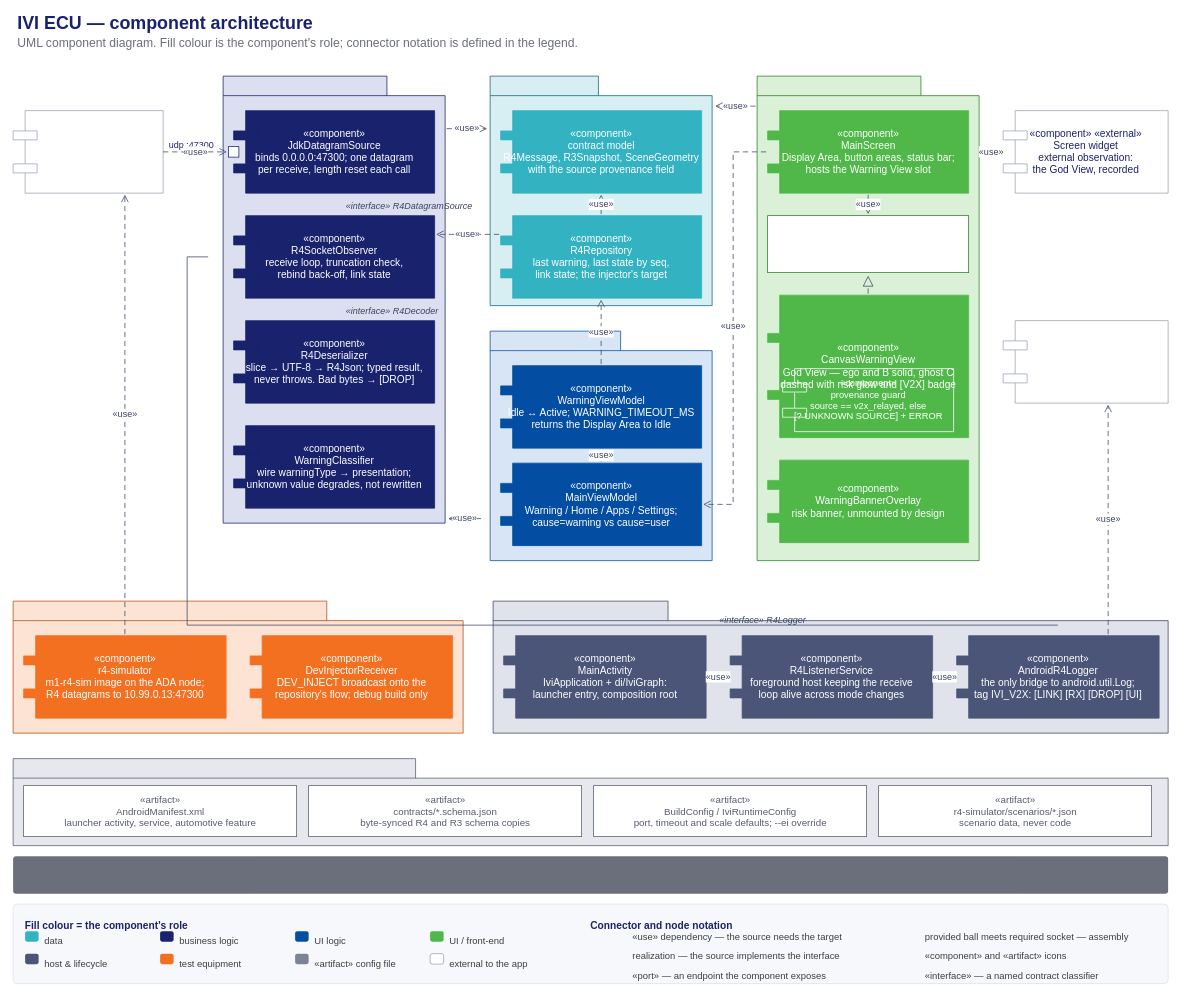
Image size: 1192x997. Some labels were removed from this diagram. Each missing label, with the box of its shape:
AAOS (Android Automotive OS) guest on the CarSky Skycraft node: (13, 856, 1168, 893)
«artifact» configuration & descriptors — outside the four role groups: (12, 758, 1168, 846)
«component» «external» ADA ECU node external — the R4 producer at 10.99.0.12: (12, 110, 163, 193)
«component» «external» Guest logcat external observation: adb logcat -s IVI_V2X: (1002, 320, 1168, 403)
«interface» IviWarningViewSeam Render(scene, riskState): (767, 215, 969, 273)
«subsystem» Business logic: (222, 75, 445, 523)
«subsystem» Data: (489, 75, 712, 306)
«subsystem» Host & lifecycle: (492, 600, 1168, 733)
«subsystem» Test equipment — never in the release APK: (12, 600, 463, 733)
«subsystem» UI / front-end: (756, 75, 979, 561)
«subsystem» UI logic: (489, 330, 712, 561)
